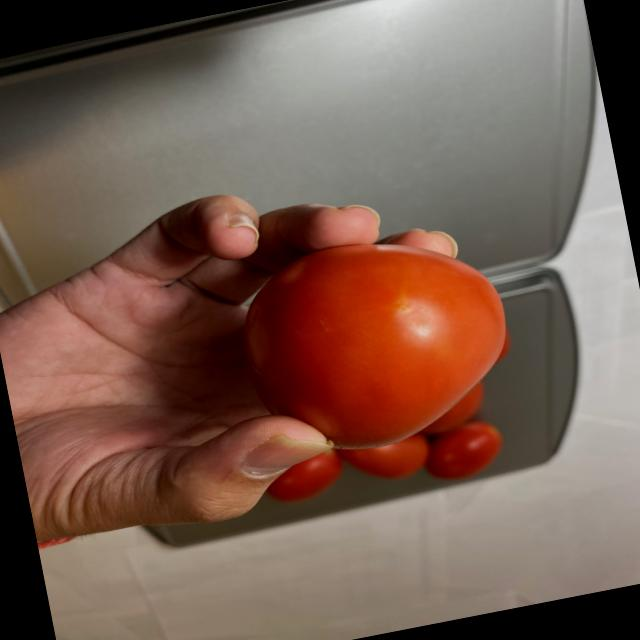tomato: (222, 216, 534, 516)
